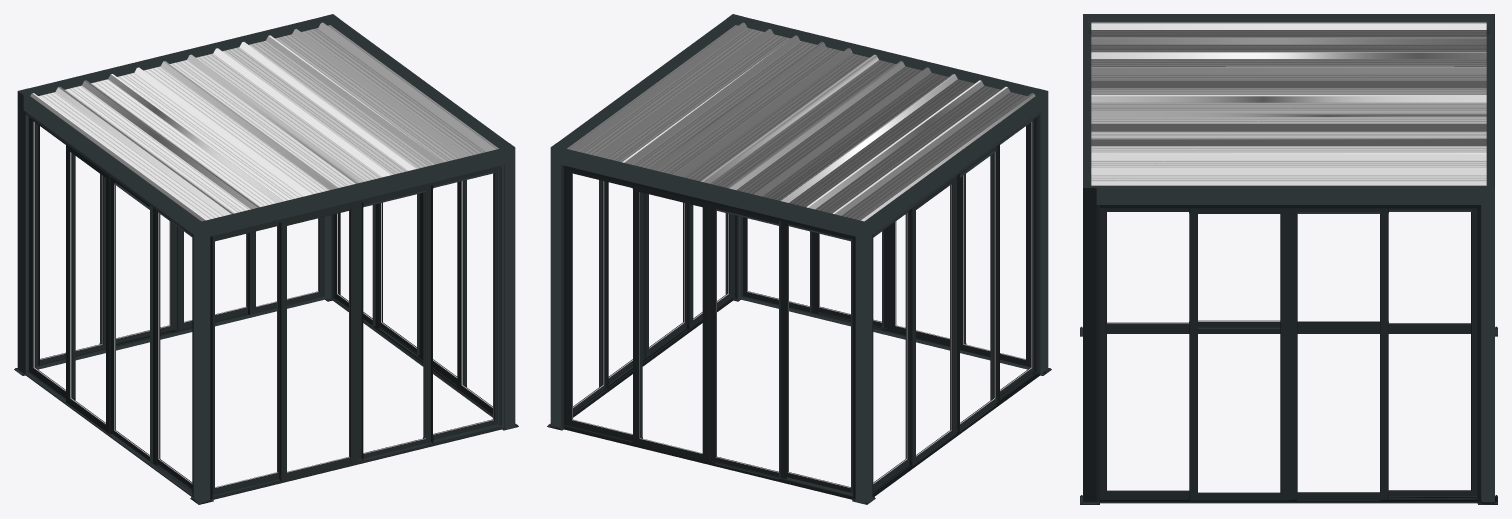
The picture shows the model from 3 angles, left to right: view 1: azimuth 30°, elevation 25°; view 2: azimuth 150°, elevation 25°; view 3: azimuth 270°, elevation 25°; orthographic projection. The views are drawn at different scales.
Visible parts, largest first — view 1: priximbattable_net_pergola_aluminium_1282_pergola_aluminium_, folha2, folha3, folha2_2, folha3_2, folha1_2, folha4, folha1, folha4_4, folha1_3, folha2_3, folha1_4 (+5 smaller); view 2: priximbattable_net_pergola_aluminium_1282_pergola_aluminium_, folha2_4, folha3_4, folha2_2, folha1_4, folha3_2, folha1, folha4_2, folha2_3, folha4_4, folha2, folha1_3 (+5 smaller); view 3: priximbattable_net_pergola_aluminium_1282_pergola_aluminium_, folha2_3, folha3_3, folha4_3, folha1_3, folha2_2, folha1_2, folha3_2, folha4_2.
Boxes of the visible parts, left/top/right/bottom form: priximbattable_net_pergola_aluminium_1282_pergola_aluminium_: left=14, top=14, right=518, bottom=504; folha2: left=279, top=203, right=358, bottom=480; folha3: left=358, top=185, right=433, bottom=460; folha2_2: left=66, top=144, right=112, bottom=434; folha3_2: left=109, top=176, right=156, bottom=464; folha1_2: left=29, top=117, right=75, bottom=400; folha4: left=423, top=169, right=497, bottom=441; folha1: left=212, top=223, right=279, bottom=495; folha4_4: left=35, top=123, right=105, bottom=365; folha1_3: left=457, top=181, right=492, bottom=414; folha2_3: left=420, top=180, right=466, bottom=386; folha1_4: left=248, top=216, right=324, bottom=314; priximbattable_net_pergola_aluminium_1282_pergola_aluminium_: left=547, top=14, right=1051, bottom=504; folha2_4: left=632, top=185, right=711, bottom=462; folha3_4: left=709, top=204, right=786, bottom=479; folha2_2: left=909, top=176, right=956, bottom=466; folha1_4: left=566, top=169, right=642, bottom=441; folha3_2: left=956, top=144, right=999, bottom=431; folha1: left=960, top=123, right=1030, bottom=366; folha4_2: left=990, top=119, right=1033, bottom=400; folha2_3: left=642, top=193, right=686, bottom=358; folha4_4: left=786, top=223, right=852, bottom=494; folha2: left=887, top=174, right=966, bottom=345; folha1_3: left=686, top=203, right=733, bottom=329; priximbattable_net_pergola_aluminium_1282_pergola_aluminium_: left=1080, top=14, right=1497, bottom=504; folha2_3: left=1189, top=208, right=1291, bottom=500; folha3_3: left=1291, top=208, right=1388, bottom=500; folha4_3: left=1388, top=205, right=1481, bottom=498; folha1_3: left=1100, top=208, right=1189, bottom=498; folha2_2: left=1297, top=321, right=1388, bottom=328; folha1_2: left=1388, top=323, right=1470, bottom=330; folha3_2: left=1189, top=320, right=1280, bottom=328; folha4_2: left=1107, top=322, right=1189, bottom=328.
Bounding box in the file's own units: 304 × 254 × 304.
Materials: 1 (1 with a texture image).
